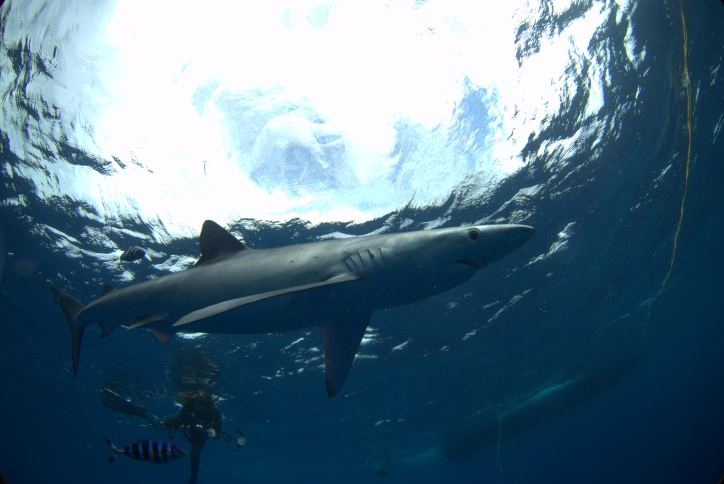Azul: (37, 255, 634, 466), (30, 205, 578, 408)
